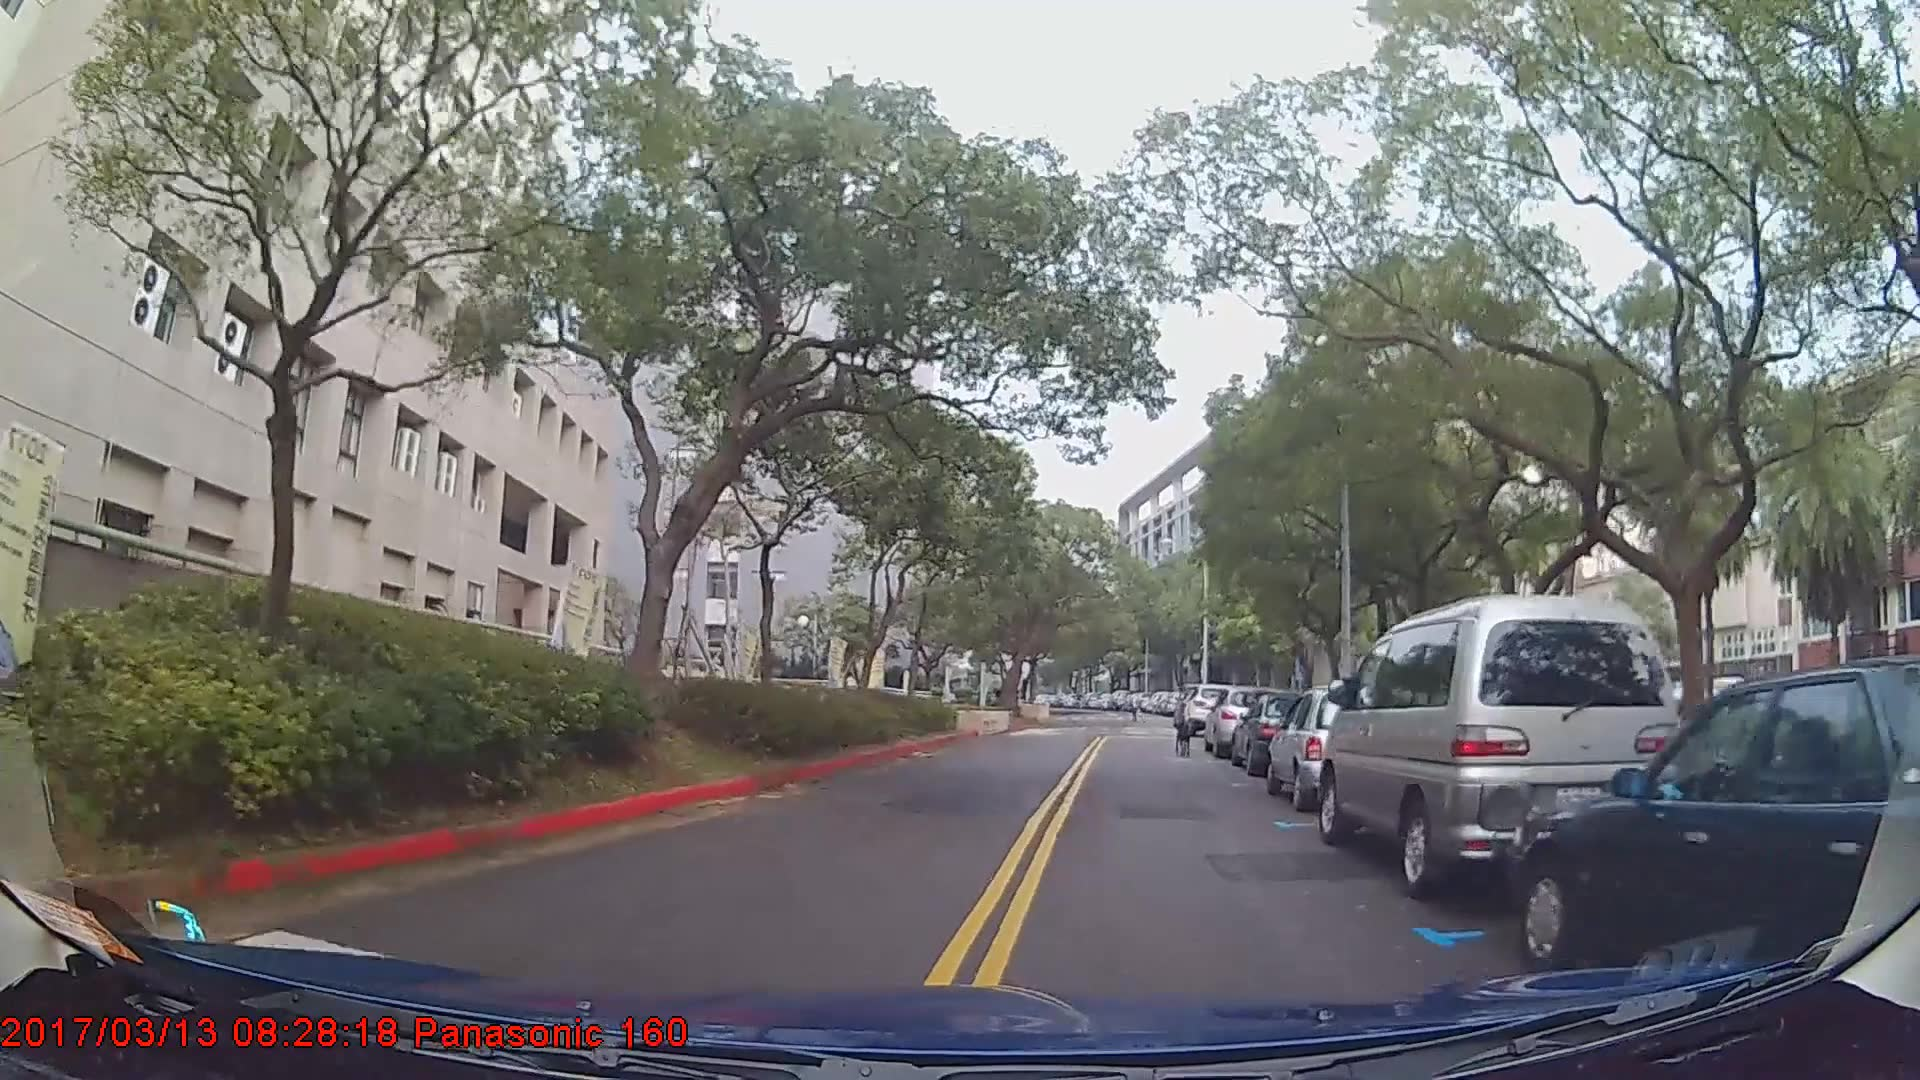vehicle: (1498, 658, 1920, 998), (1316, 593, 1684, 897), (1205, 686, 1288, 757)
